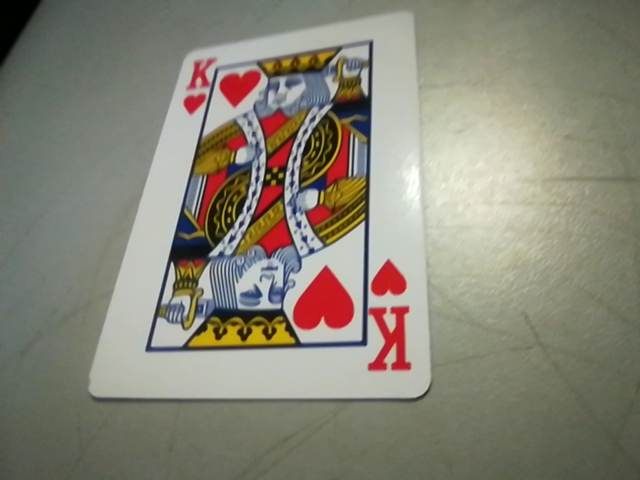hx k: (358, 258, 422, 384), (173, 54, 220, 117)
